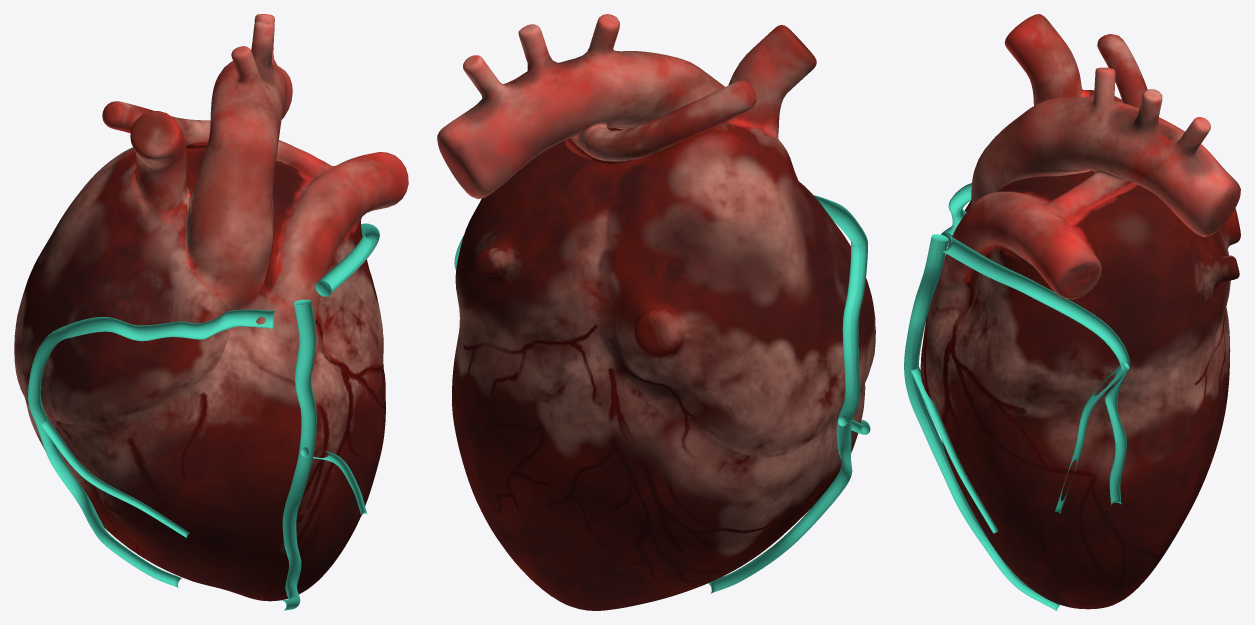
File: heart_coronary_optimized.glb
The picture shows the model from 3 angles, left to right: view 1: azimuth 30°, elevation 25°; view 2: azimuth 150°, elevation 25°; view 3: azimuth 270°, elevation 25°; orthographic projection. The views are drawn at different scales.
Parts seen in each view (by area): view 1: myocardium, vessel_RCA, vessel_LAD, vessel_LCX; view 2: myocardium, vessel_RCA; view 3: myocardium, vessel_LAD, vessel_LCX, vessel_RCA.
Boxes of the visible parts, x1,y1,x2,y2 form: myocardium: (14, 14, 408, 601); vessel_RCA: (28, 309, 274, 587); vessel_LAD: (281, 299, 367, 610); vessel_LCX: (315, 223, 379, 296); myocardium: (437, 14, 875, 610); vessel_RCA: (708, 195, 870, 593); myocardium: (920, 14, 1240, 609); vessel_LAD: (904, 234, 1059, 610); vessel_LCX: (940, 235, 1129, 513); vessel_RCA: (941, 183, 971, 247).
Bounding box in the file's own units: 1.12 × 1.62 × 0.9258.
4 materials, 1 textured.
